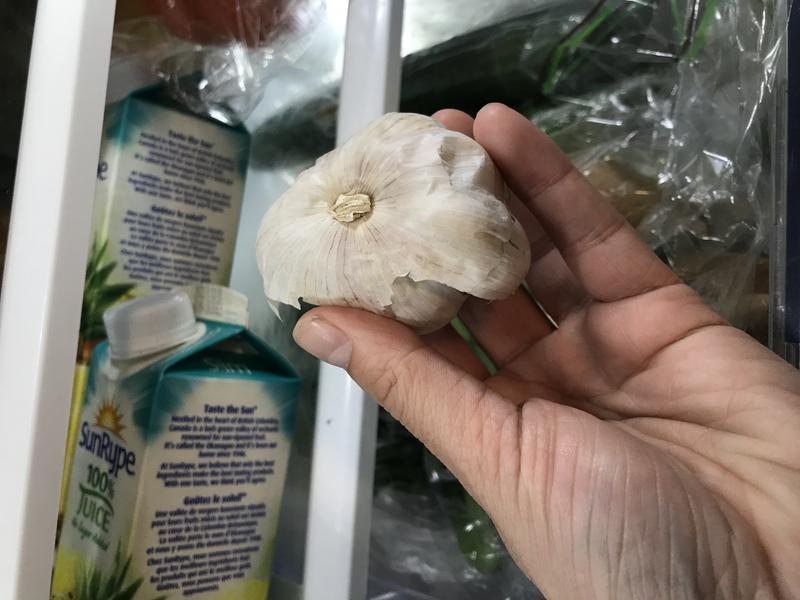garlic: (242, 109, 543, 356)
